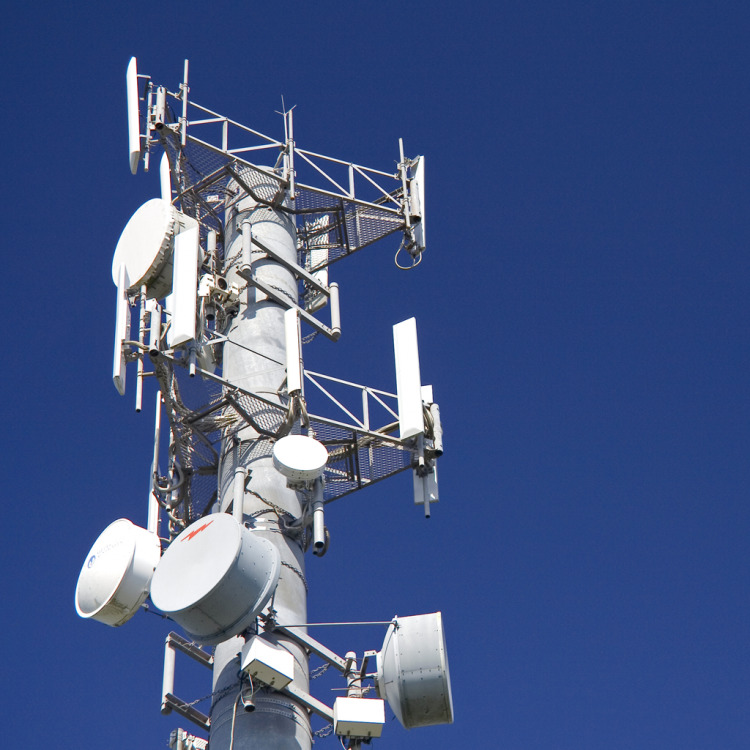ba: (355, 590, 467, 738), (152, 504, 276, 633), (95, 173, 182, 295), (63, 516, 153, 621), (270, 426, 339, 499)
sa: (383, 303, 436, 448), (116, 50, 162, 162), (401, 132, 434, 276), (274, 293, 314, 410)
